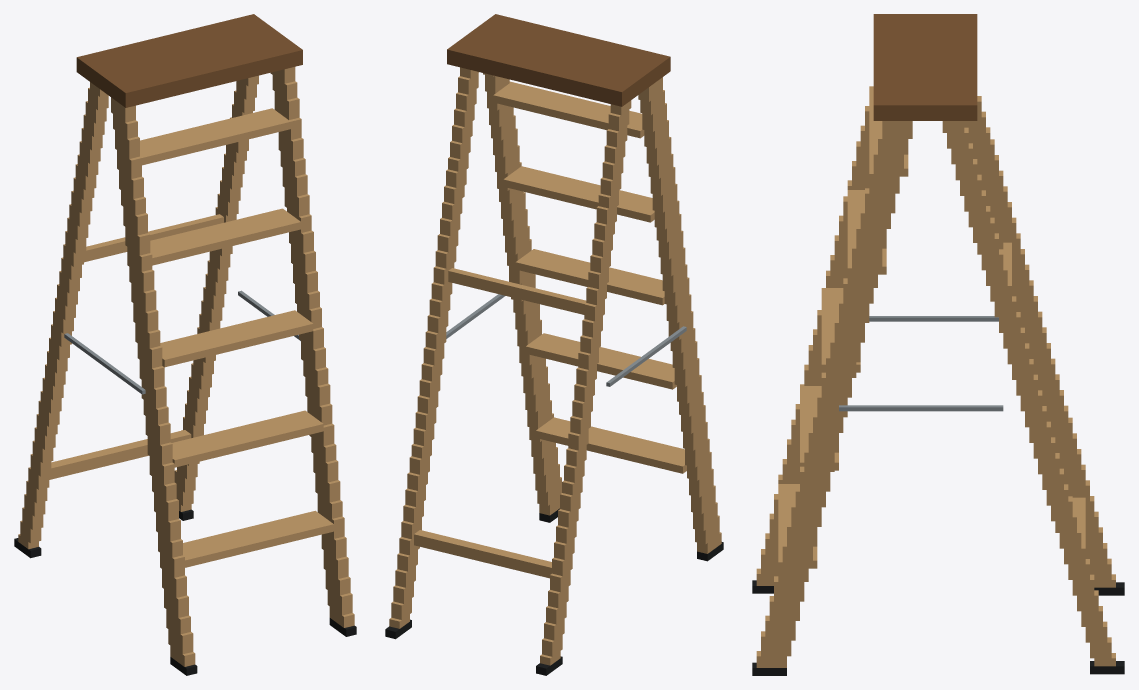
The model's file is stepladder.glb.
The picture shows the model from 3 angles, left to right: view 1: azimuth 30°, elevation 25°; view 2: azimuth 150°, elevation 25°; view 3: azimuth 270°, elevation 25°; orthographic projection. The views are drawn at different scales.
Visible parts, largest first — view 1: stepladder:compound; view 2: stepladder:compound; view 3: stepladder:compound.
Boxes of the visible parts, left/top/right/bottom form: stepladder:compound: left=14, top=14, right=356, bottom=675; stepladder:compound: left=385, top=14, right=723, bottom=675; stepladder:compound: left=752, top=14, right=1124, bottom=675.
Size of the model in its own units: 0.5 by 1.46 by 0.86.
